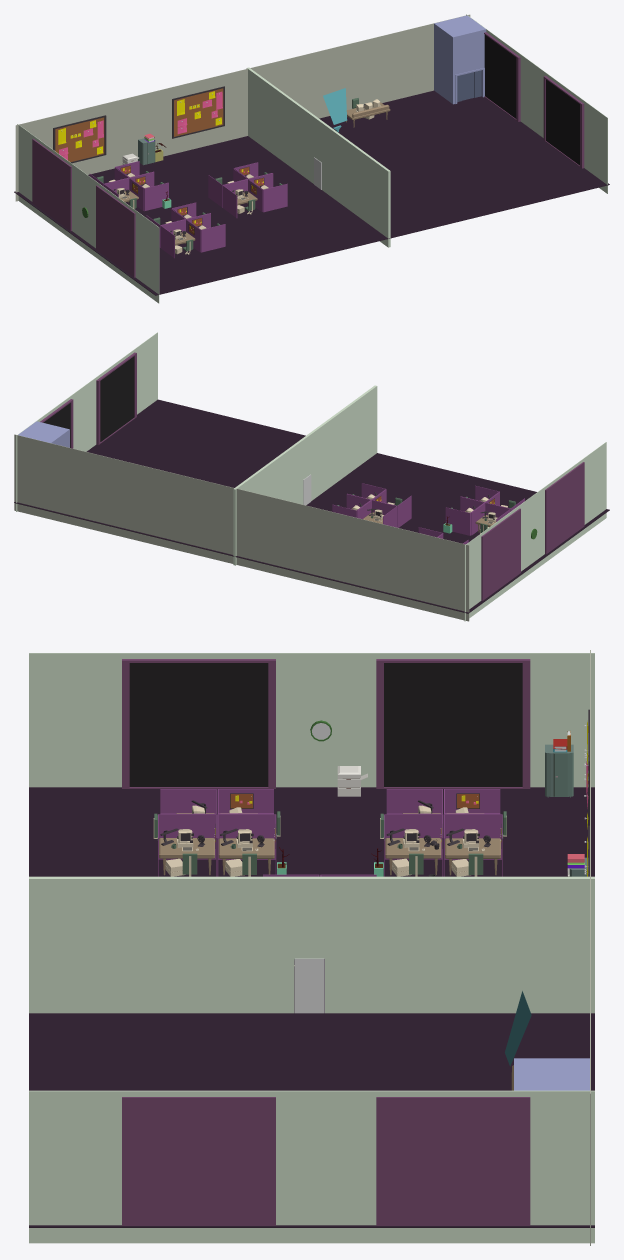
The model's file is Floor1_ContextII.fbx.
3 renders of one model, top to bottom at view 1: azimuth 30°, elevation 25°; view 2: azimuth 150°, elevation 25°; view 3: azimuth 270°, elevation 25°, orthographic. The views are drawn at different scales.
Visible parts, largest first — view 1: Cube.030, Cube.026, Cube.039, Cube.025, Cube.044, Cube.028, Cube.109, Cube.027, Cube.029, Cube.108, Cubicle one object.018, Cubicle one object.016 (+9 smaller); view 2: Cube.026, Cube.030, Cube.039, Cube.025, Cube.044, Cube.109, Cube.029, Cube.027, Cubicle one object.011, Cube.028, Cubicle one object.020, Cubicle one object.009 (+3 smaller); view 3: Cube.039, Cube.030, Cube.044, Cube.025, Cube.029, Cube.027, Cube.108, Cube.109, Cubicle one object.015, Cubicle one object.011, Cubicle one object.010, Cubicle one object.003 (+8 smaller).
Boxes of the visible parts, left/top/right/bottom form: Cube.030: left=14, top=90, right=609, bottom=295; Cube.026: left=15, top=14, right=470, bottom=201; Cube.039: left=246, top=67, right=390, bottom=247; Cube.025: left=17, top=124, right=159, bottom=303; Cube.044: left=466, top=14, right=607, bottom=193; Cube.028: left=434, top=15, right=486, bottom=104; Cube.109: left=543, top=76, right=584, bottom=168; Cube.027: left=96, top=185, right=135, bottom=277; Cube.029: left=32, top=138, right=71, bottom=231; Cube.108: left=484, top=32, right=520, bottom=121; Cubicle one object.018: left=172, top=86, right=224, bottom=138; Cubicle one object.016: left=53, top=115, right=106, bottom=163; Cube.026: left=14, top=434, right=469, bottom=621; Cube.030: left=14, top=399, right=609, bottom=613; Cube.039: left=233, top=385, right=377, bottom=565; Cube.025: left=464, top=442, right=606, bottom=621; Cube.044: left=16, top=332, right=157, bottom=511; Cube.109: left=96, top=352, right=136, bottom=445; Cube.029: left=481, top=508, right=520, bottom=600; Cube.027: left=545, top=462, right=584, bottom=554; Cubicle one object.011: left=445, top=496, right=484, bottom=535; Cube.028: left=18, top=421, right=69, bottom=447; Cubicle one object.020: left=357, top=500, right=397, bottom=527; Cubicle one object.009: left=471, top=502, right=510, bottom=535; Cube.039: left=29, top=876, right=594, bottom=1013; Cube.030: left=29, top=787, right=594, bottom=1227; Cube.044: left=29, top=1090, right=594, bottom=1243; Cube.025: left=29, top=653, right=594, bottom=787; Cube.029: left=376, top=659, right=530, bottom=788; Cube.027: left=122, top=659, right=275, bottom=788; Cube.108: left=376, top=1097, right=530, bottom=1225; Cube.109: left=122, top=1097, right=275, bottom=1225; Cubicle one object.015: left=443, top=814, right=502, bottom=876; Cubicle one object.011: left=217, top=814, right=276, bottom=876; Cubicle one object.010: left=158, top=814, right=216, bottom=876; Cubicle one object.003: left=384, top=814, right=442, bottom=876.
Bounding box in the file's own units: 1365 × 218 × 735.
